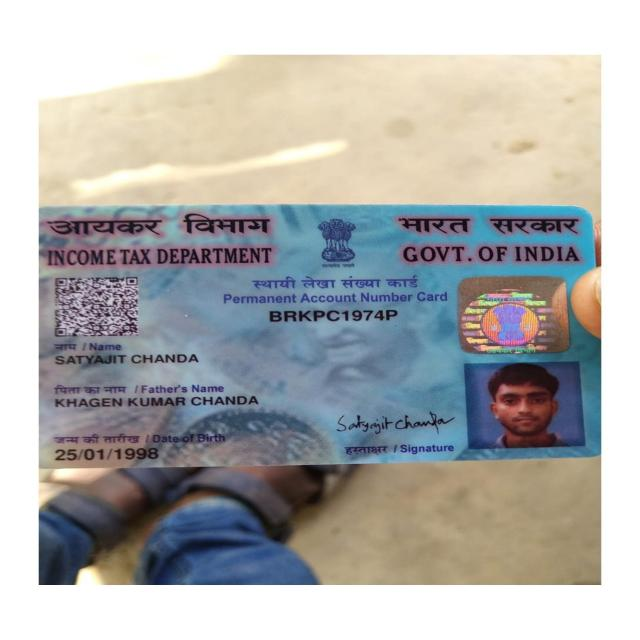pan_card: (36, 209, 598, 469)
